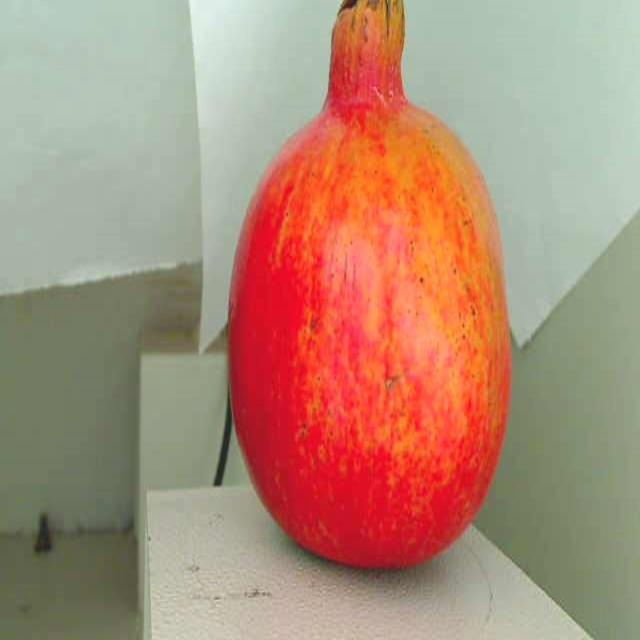pomegranate: (222, 0, 522, 585)
